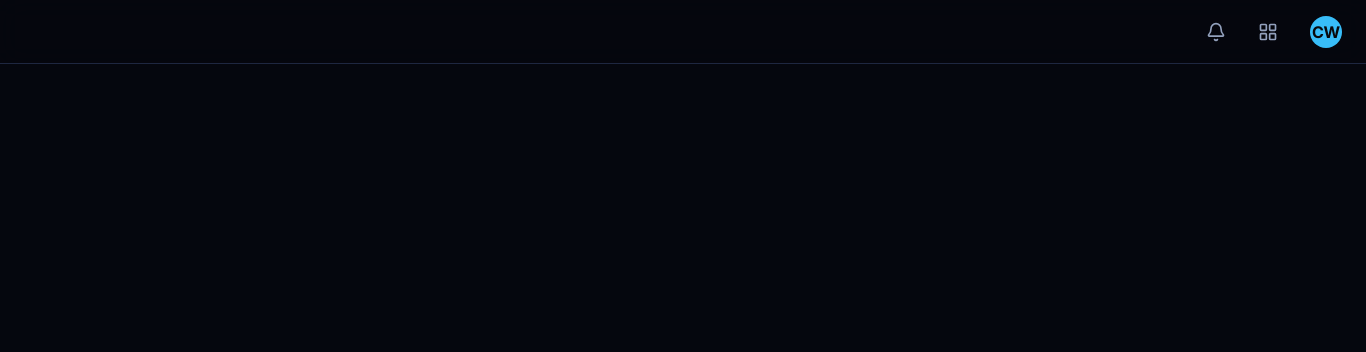
Test: AppBar › toggles the waffle menu dropdown and renders orders link
Click the button named "App launcher".
click(1268, 32)  # box [1250,14,1286,50]
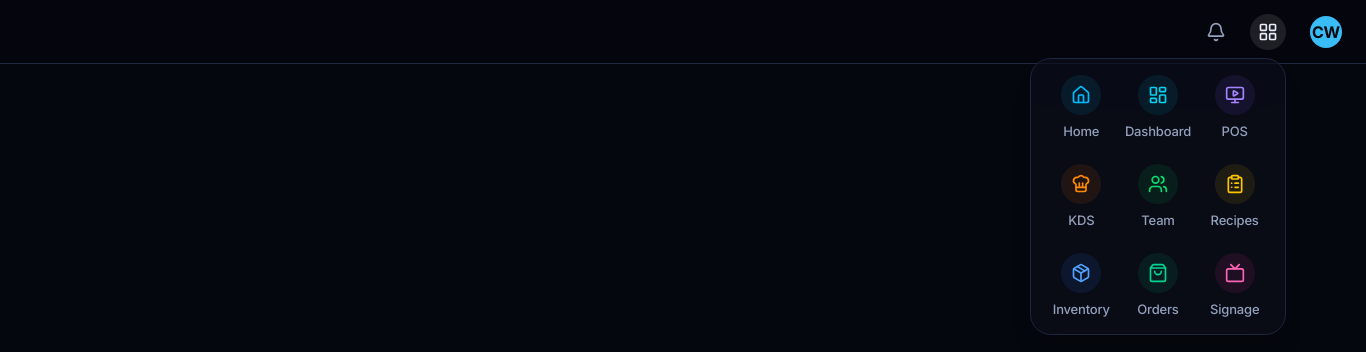
Now the link "Orders" is shown, box [1137,253,1179,317]
